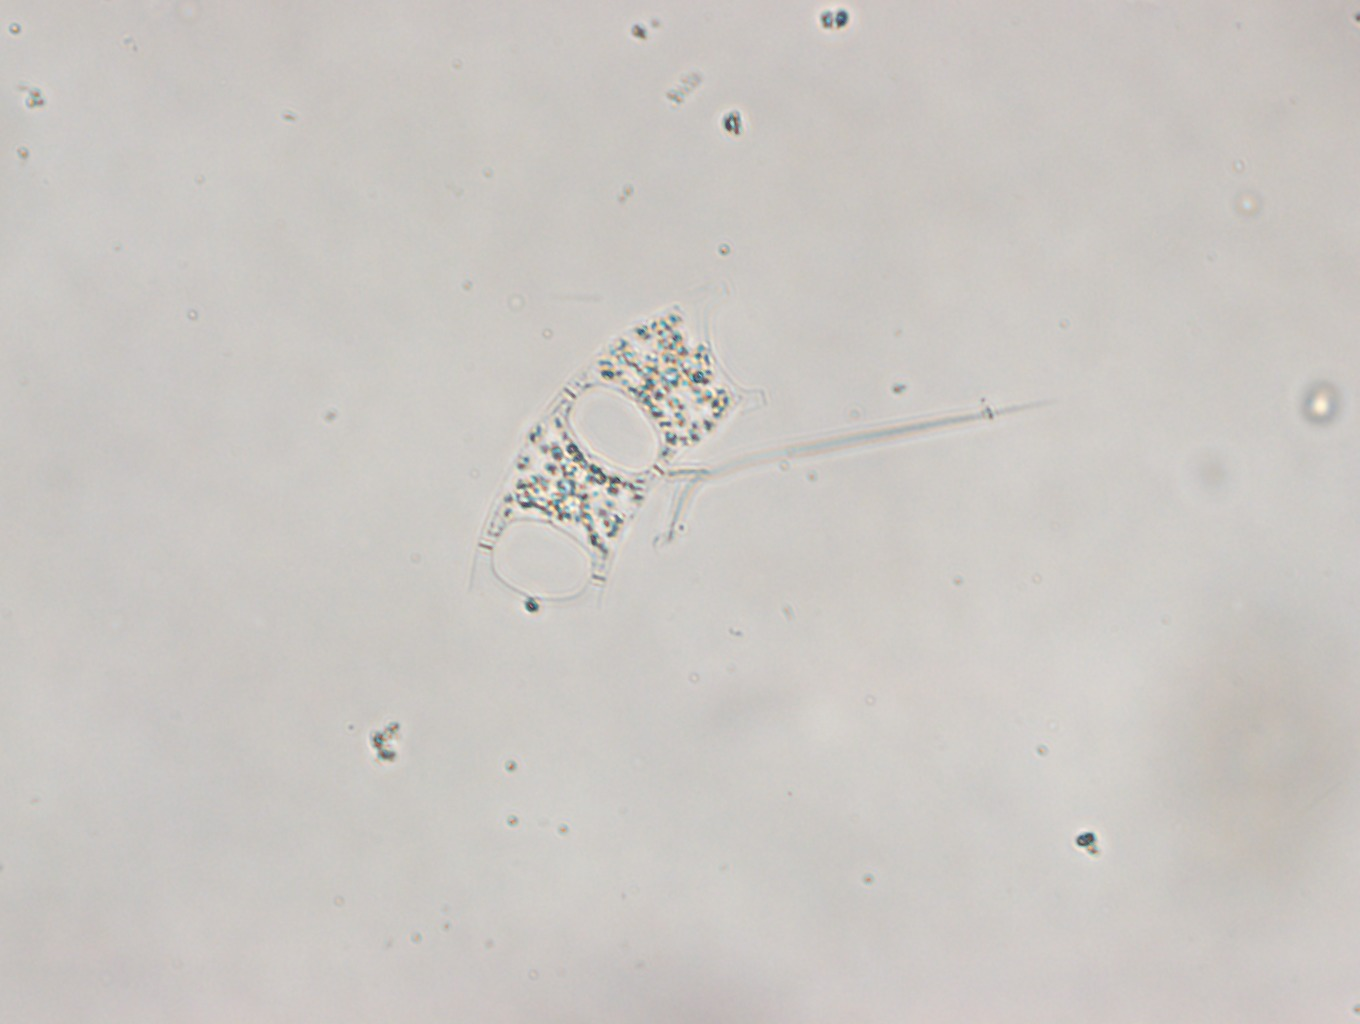eucampia: (466, 275, 770, 617)
